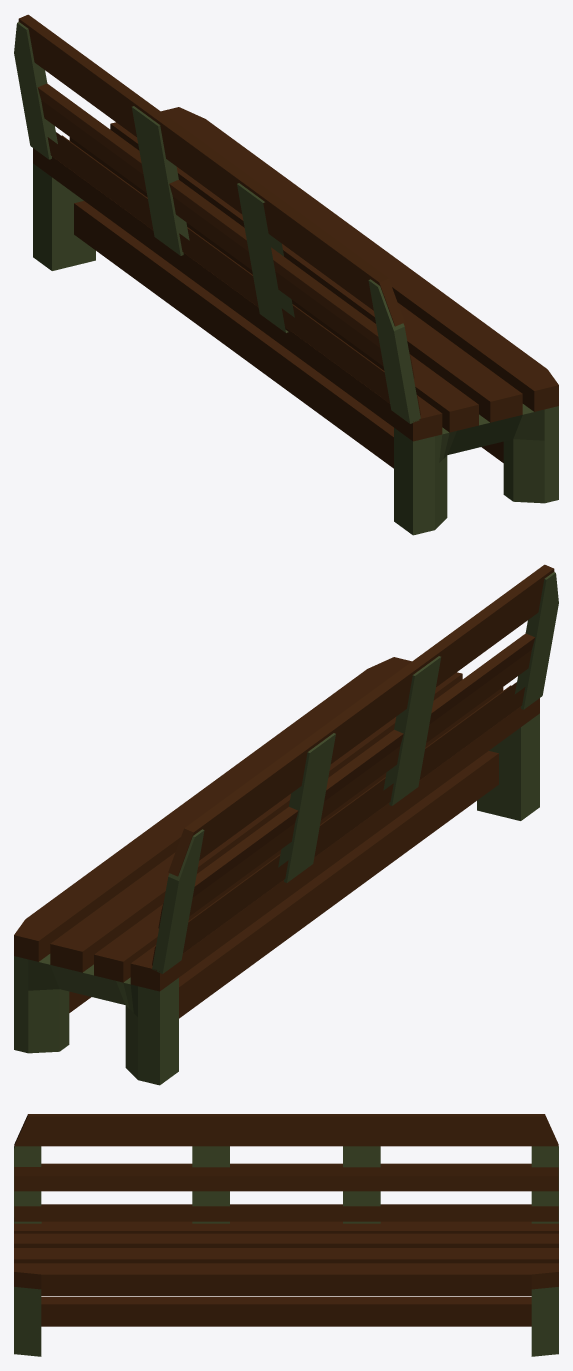
The model's file is BenchColoured.fbx.
The picture shows the model from 3 angles, top to bottom: view 1: azimuth 30°, elevation 25°; view 2: azimuth 150°, elevation 25°; view 3: azimuth 270°, elevation 25°; orthographic projection. The views are drawn at different scales.
Visible parts, largest first — view 1: Cube, Cube.001, Cube.002; view 2: Cube, Cube.001, Cube.002; view 3: Cube, Cube.001, Cube.002.
Part boxes in pixels (box(x1,y1,x2,y2)): Cube: box(33, 107, 558, 535); Cube.001: box(18, 14, 420, 415); Cube.002: box(14, 22, 420, 423); Cube: box(14, 657, 539, 1085); Cube.001: box(152, 564, 554, 965); Cube.002: box(152, 572, 558, 973); Cube: box(14, 1221, 558, 1356); Cube.001: box(14, 1114, 558, 1221); Cube.002: box(14, 1146, 558, 1223).
Size of the model in its own units: 81.68 by 110 by 300.
